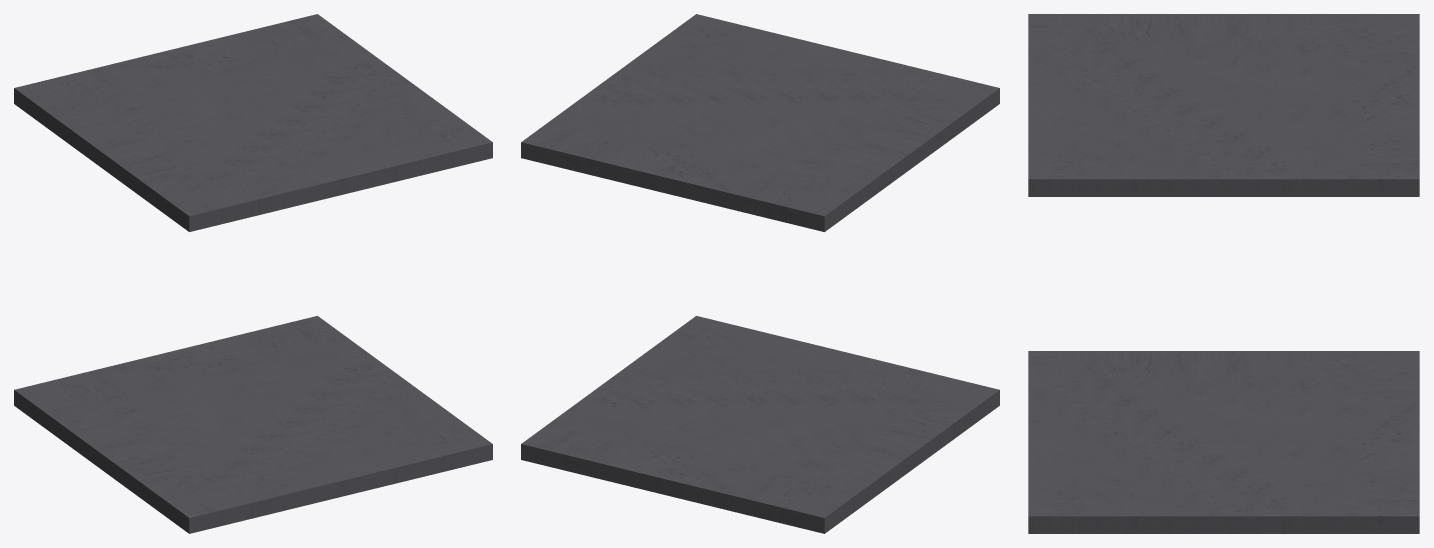
The model's file is fourRoom.fbx.
3 views of the same model, side by side, from view 1: azimuth 30°, elevation 25°; view 2: azimuth 150°, elevation 25°; view 3: azimuth 270°, elevation 25° (orthographic). The views are drawn at different scales.
Parts seen in each view (by area): view 1: fourRoom1:pCube3; view 2: fourRoom1:pCube3; view 3: fourRoom1:pCube3.
Boxes of the visible parts, left/top/right/bottom form: fourRoom1:pCube3: left=14, top=14, right=492, bottom=533; fourRoom1:pCube3: left=521, top=14, right=999, bottom=533; fourRoom1:pCube3: left=1028, top=14, right=1419, bottom=533.
Bounding box in the file's own units: 20 × 20 × 20.
1 material, 1 textured.
